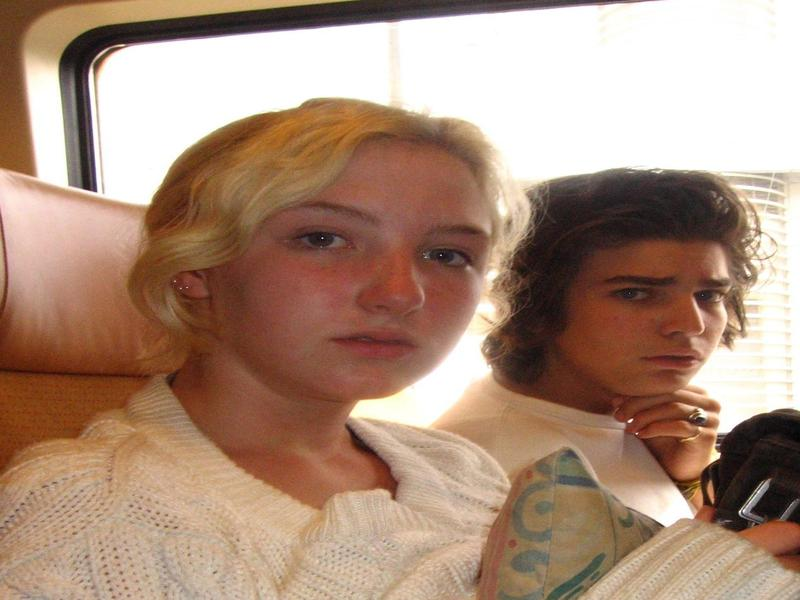person: (13, 95, 531, 600), (422, 167, 798, 600)
